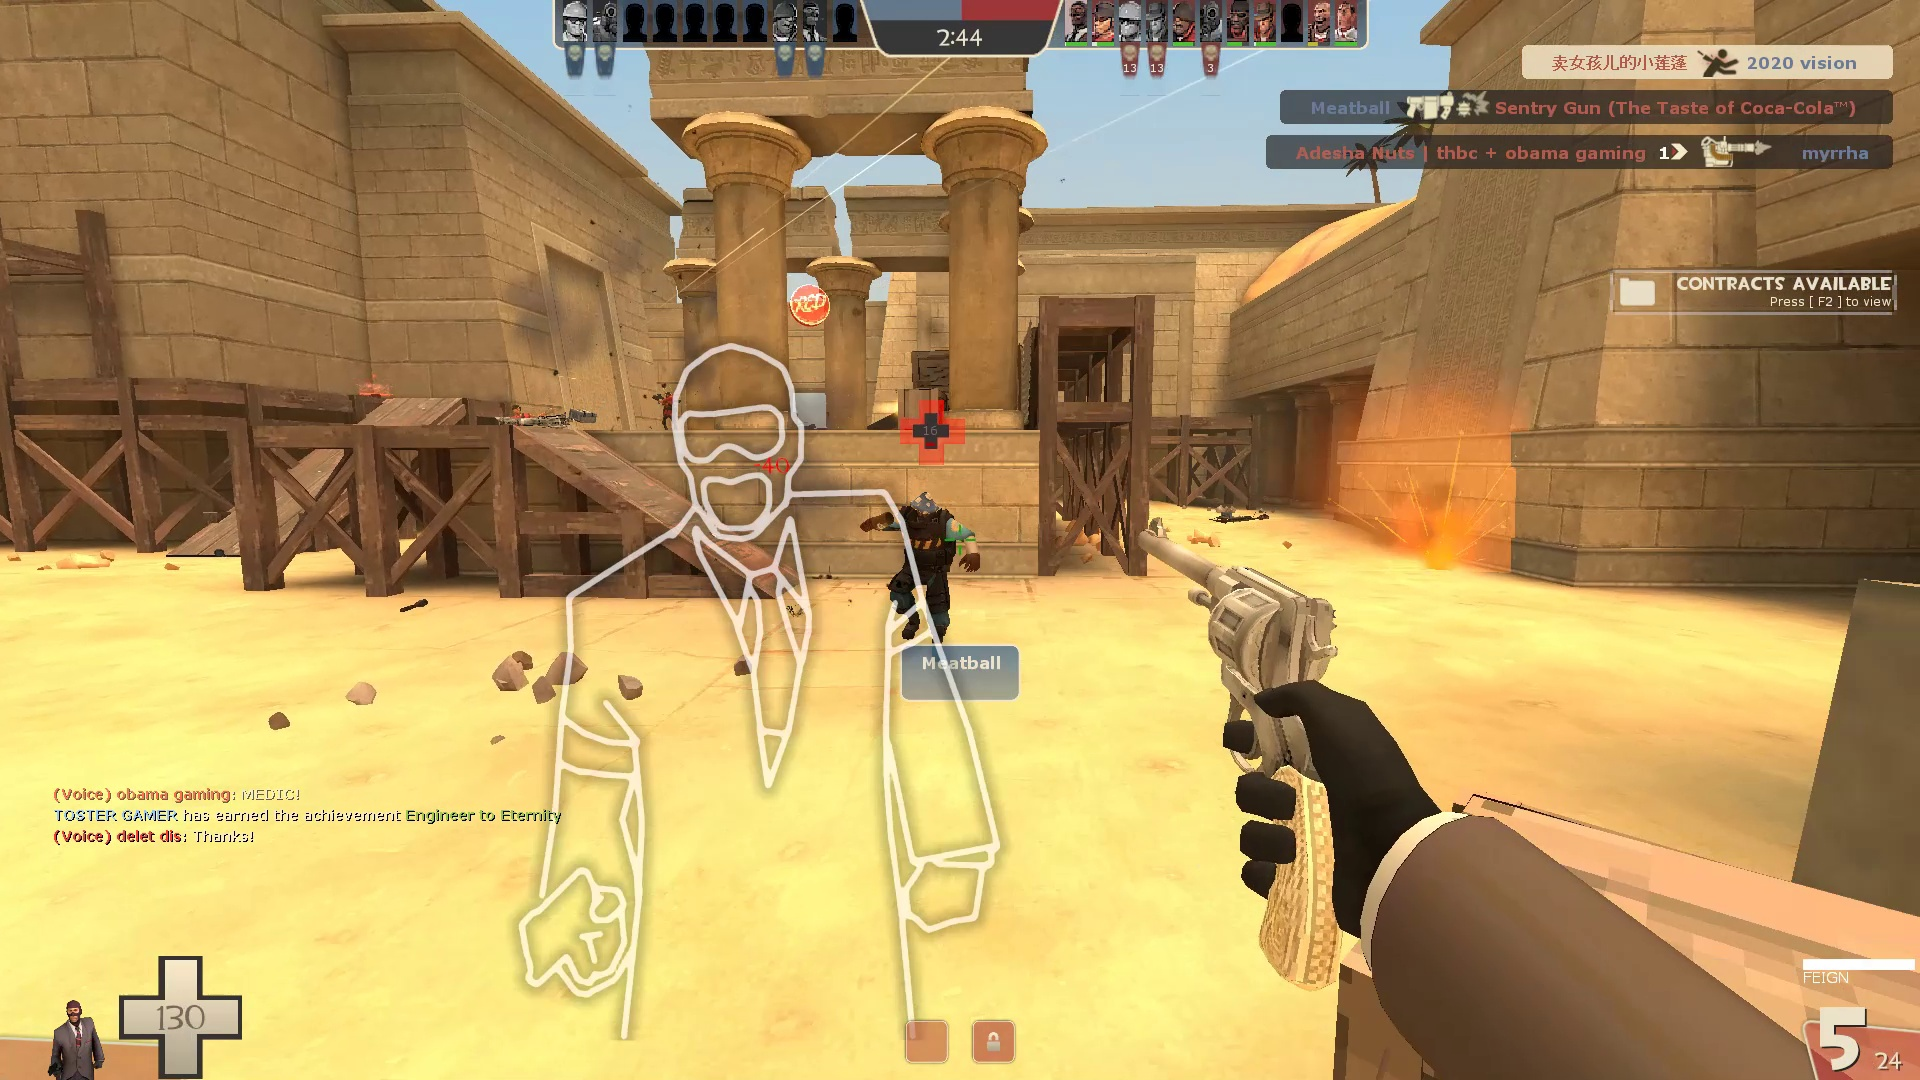blu_demo: (853, 493, 988, 665)
red_soldier: (649, 381, 683, 436)
red_teleporter_exit: (348, 368, 396, 404)
